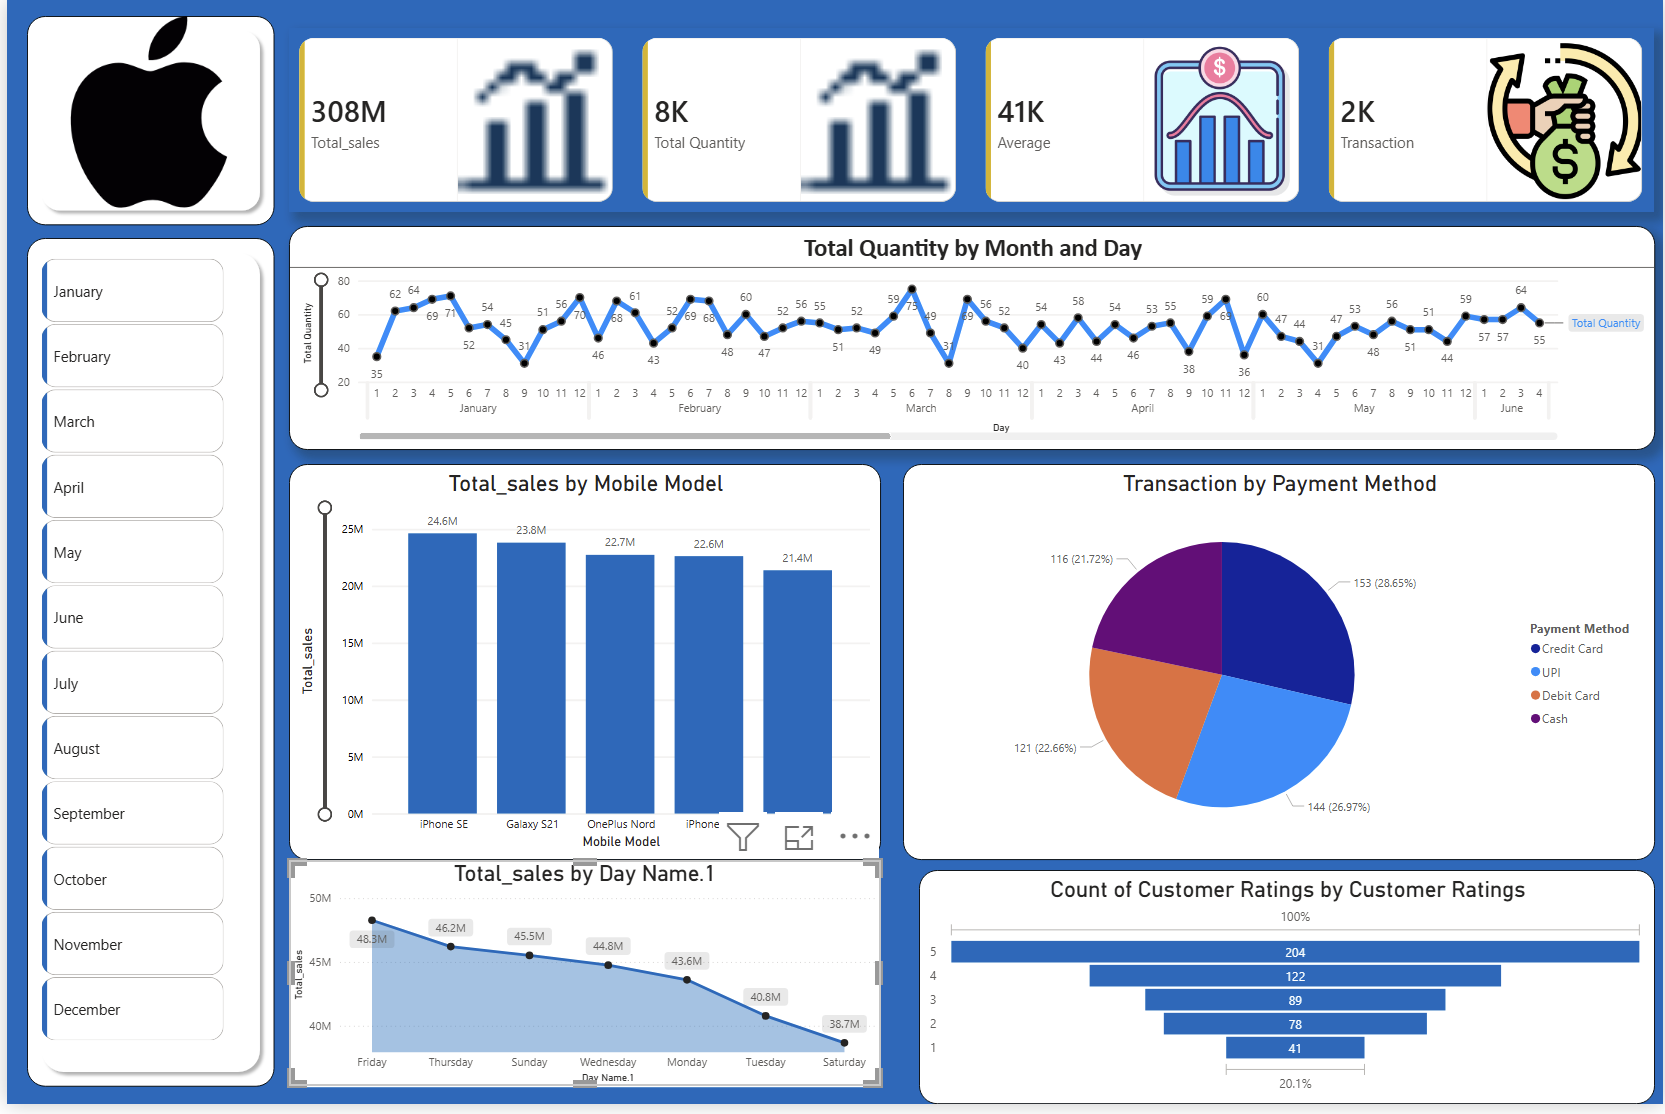

Layout of this report page (visuals, bound fields, positions):
{"tool":"powerbi","page":{"name":"Page 1","canvas":[1800,1200],"ordinal":0},"visuals":[{"type":"shape","box":[20.9,16.7,269.2,227.5],"z":0},{"type":"image","box":[20.9,16.7,265,208.7],"z":1000},{"type":"shape","box":[20.9,258.8,269.2,922.4],"z":2000},{"type":"advancedSlicerVisual","fields":{"Values":["Sheet1.Date.Variation.Date Hierarchy.Month"]},"box":[32.6,276.1,208.7,871.7],"z":3000},{"type":"cardVisual","fields":{"Data":["Sheet1.Total_sales","Sheet1.Total Quantity","Sheet1.Transactions","Sheet1.Transaction"]},"box":[306,31.3,1483.8,200.3],"z":4000},{"type":"lineChart","fields":{"Category":["Salesdata.Date.Variation.Date Hierarchy.Month","Salesdata.Date.Variation.Date Hierarchy.Day"],"Y":["Salesdata.Total Quantity"]},"box":[306.5,245.7,1484.8,243.5],"z":4001},{"type":"clusteredColumnChart","fields":{"Y":["Salesdata.Total_sales"],"Category":["Salesdata.Mobile Model"]},"box":[306.5,504.3,643.5,430.4],"z":4002},{"type":"pieChart","fields":{"Category":["Salesdata.Payment Method"],"Y":["Salesdata.Transaction"]},"box":[973.9,504.3,817.4,430.4],"z":4003},{"type":"funnel","fields":{"Category":["Salesdata.Customer Ratings"],"Y":["CountNonNull(Salesdata.Customer Ratings)"]},"box":[991.3,945.7,800,254.3],"z":4004},{"type":"areaChart","fields":{"Category":["Salesdata.Day Name.1"],"Y":["Salesdata.Total_sales"]},"box":[307,934,643,247],"z":4005}]}

Visuals, with their boxes in screenshot pixels (x1, y1, x2, y2), scaled from the page's 1800x1200 canvas onto the 1665x1114 screenshot:
shape: l=19, t=16, r=268, b=227
image: l=19, t=16, r=264, b=209
shape: l=19, t=240, r=268, b=1097
advancedSlicerVisual - Sheet1.Date.Variation.Date Hierarchy.Month: l=30, t=256, r=223, b=1066
cardVisual - Sheet1.Total_sales x Sheet1.Total Quantity: l=283, t=29, r=1656, b=215
lineChart - Salesdata.Date.Variation.Date Hierarchy.Month x Salesdata.Date.Variation.Date Hierarchy.Day: l=284, t=228, r=1657, b=454
clusteredColumnChart - Salesdata.Total_sales x Salesdata.Mobile Model: l=284, t=468, r=879, b=868
pieChart - Salesdata.Payment Method x Salesdata.Transaction: l=901, t=468, r=1657, b=868
funnel - Salesdata.Customer Ratings x CountNonNull(Salesdata.Customer Ratings): l=917, t=878, r=1657, b=1113
areaChart - Salesdata.Day Name.1 x Salesdata.Total_sales: l=284, t=867, r=879, b=1096
